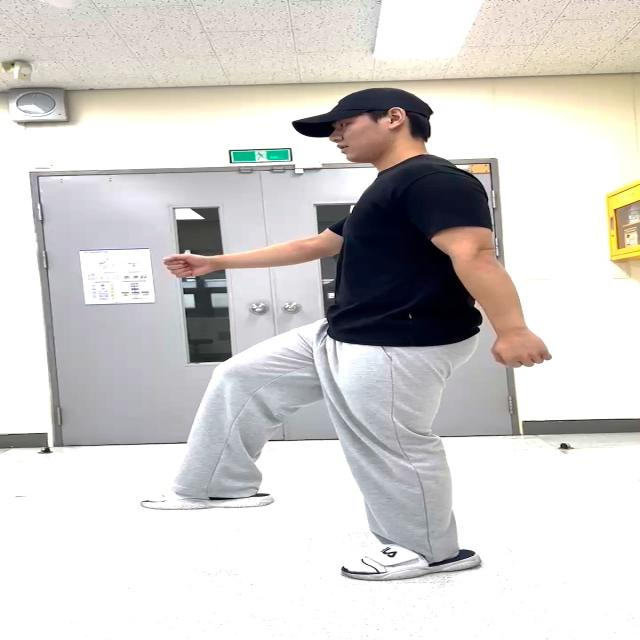leg: (168, 326, 321, 510)
